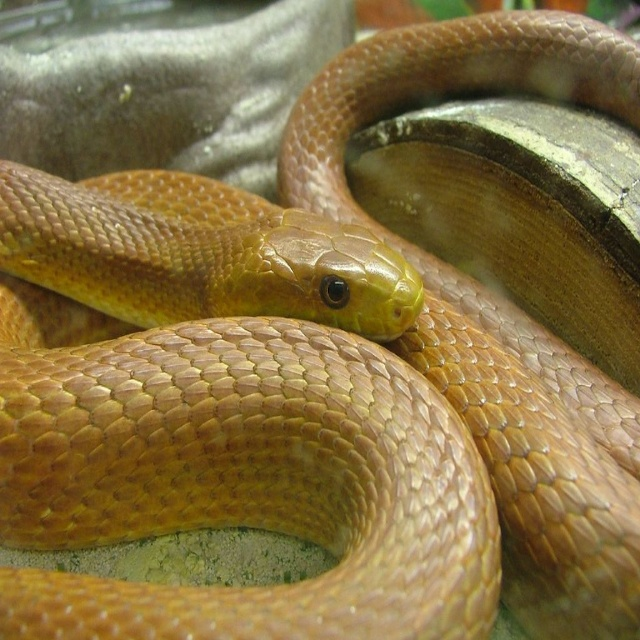Snake: (0, 9, 640, 640)
